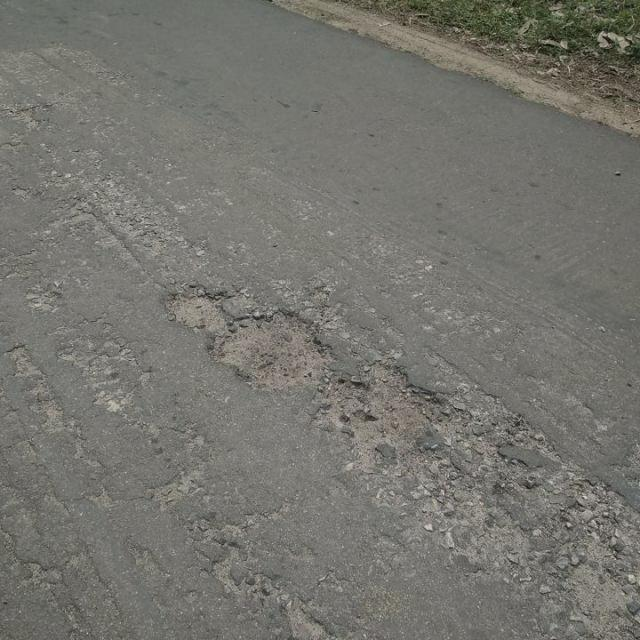Pothole: (317, 355, 459, 465), (210, 307, 340, 393), (162, 284, 233, 332)
